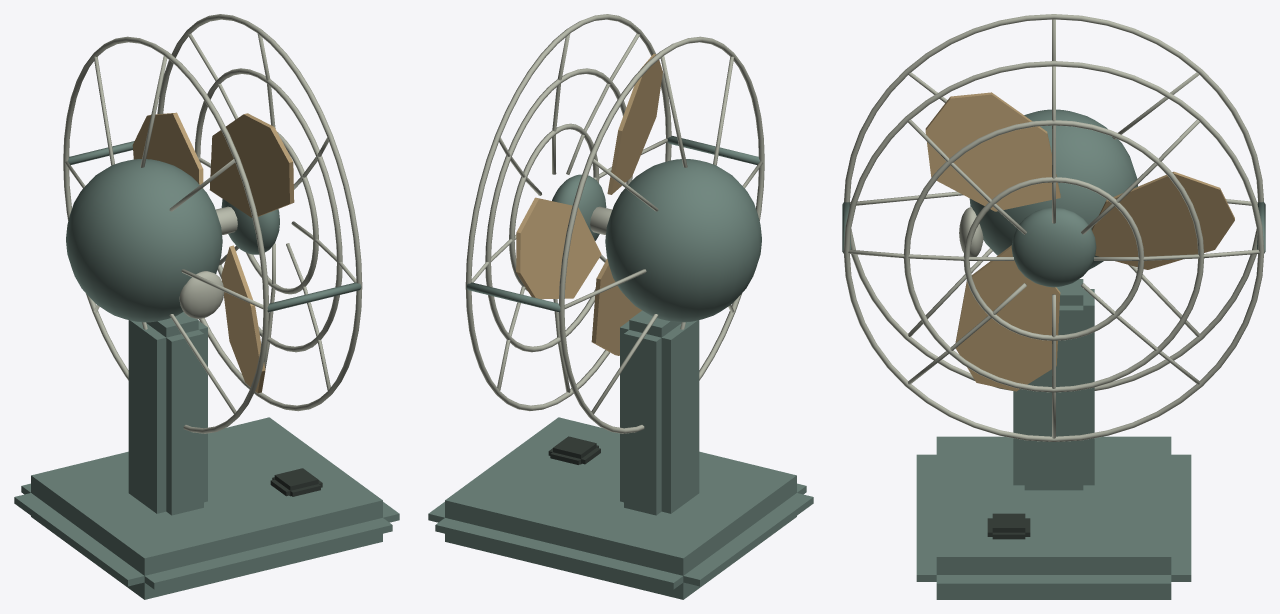
Rendered from fan.glb.
3 renders of one model, left to right at view 1: azimuth 30°, elevation 25°; view 2: azimuth 150°, elevation 25°; view 3: azimuth 270°, elevation 25°, orthographic. The views are drawn at different scales.
Parts seen in each view (by area): view 1: Weighted oval base.001, Rear motor housing.001, Tapered pedestal.001, Pitched fan blade.004, Circular safety grille.007, Circular safety grille.004, Pitched fan blade.005, Circular safety grille.005, Pitched fan blade.003, Central front hub.001, Tilt pivot.001, Circular safety grille.006 (+7 smaller); view 2: Weighted oval base.001, Rear motor housing.001, Tapered pedestal.001, Pitched fan blade.003, Circular safety grille.007, Circular safety grille.004, Pitched fan blade.004, Circular safety grille.005, Pitched fan blade.005, Central front hub.001, Circular safety grille.006, Speed selector.001 (+7 smaller); view 3: Weighted oval base.001, Tapered pedestal.001, Pitched fan blade.004, Pitched fan blade.005, Pitched fan blade.003, Rear motor housing.001, Circular safety grille.004, Circular safety grille.007, Circular safety grille.005, Central front hub.001, Circular safety grille.006, Speed selector.001 (+9 smaller).
Boxes of the visible parts, x1,y1,x2,y2 form: Weighted oval base.001: [14, 417, 399, 599]; Rear motor housing.001: [66, 159, 222, 322]; Tapered pedestal.001: [128, 312, 207, 515]; Pitched fan blade.004: [209, 113, 294, 217]; Circular safety grille.007: [63, 36, 268, 433]; Circular safety grille.004: [157, 14, 362, 411]; Pitched fan blade.005: [221, 245, 265, 393]; Circular safety grille.005: [195, 68, 342, 352]; Pitched fan blade.003: [132, 112, 203, 188]; Central front hub.001: [221, 199, 279, 254]; Tilt pivot.001: [179, 271, 224, 318]; Circular safety grille.006: [246, 132, 318, 294]; Weighted oval base.001: [428, 417, 813, 599]; Rear motor housing.001: [605, 159, 761, 322]; Tapered pedestal.001: [620, 310, 699, 515]; Pitched fan blade.003: [516, 197, 601, 299]; Circular safety grille.007: [559, 36, 764, 433]; Circular safety grille.004: [465, 14, 671, 411]; Pitched fan blade.004: [607, 54, 662, 194]; Circular safety grille.005: [485, 68, 632, 352]; Pitched fan blade.005: [591, 259, 641, 355]; Central front hub.001: [552, 174, 606, 240]; Circular safety grille.006: [509, 123, 599, 291]; Speed selector.001: [548, 436, 600, 464]; Weighted oval base.001: [916, 436, 1191, 599]; Tapered pedestal.001: [1013, 279, 1094, 490]; Pitched fan blade.004: [925, 92, 1060, 211]; Pitched fan blade.005: [955, 245, 1060, 391]; Pitched fan blade.003: [1091, 171, 1234, 269]; Rear motor housing.001: [969, 109, 1137, 269]; Circular safety grille.004: [843, 61, 1264, 441]; Circular safety grille.007: [844, 14, 1263, 390]; Circular safety grille.005: [903, 120, 1204, 392]; Central front hub.001: [1011, 207, 1096, 287]; Circular safety grille.006: [963, 177, 1144, 340]; Speed selector.001: [987, 513, 1030, 539].
Bounding box in the file's own units: 0.26 × 0.4464 × 0.339.
